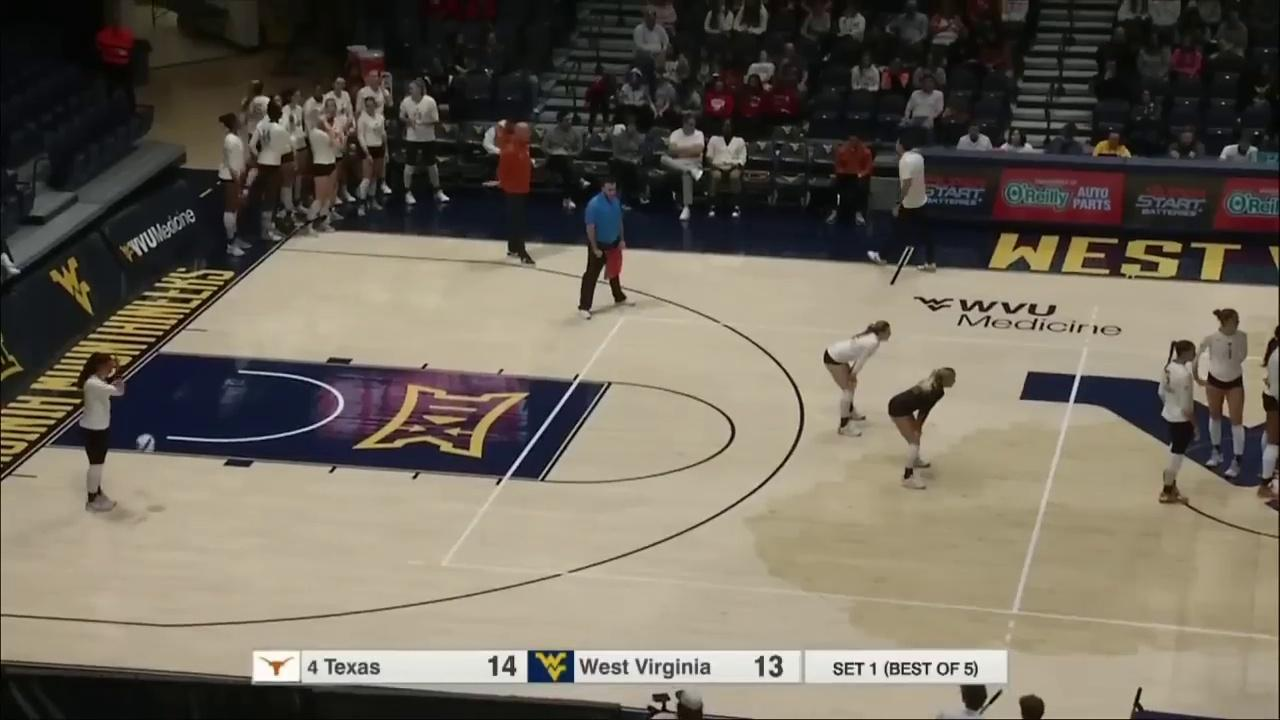player: (1144, 331, 1205, 517), (74, 346, 130, 526), (881, 368, 956, 490), (1199, 305, 1249, 482), (823, 321, 890, 439), (1256, 320, 1280, 507)
refree: (576, 171, 638, 320)
